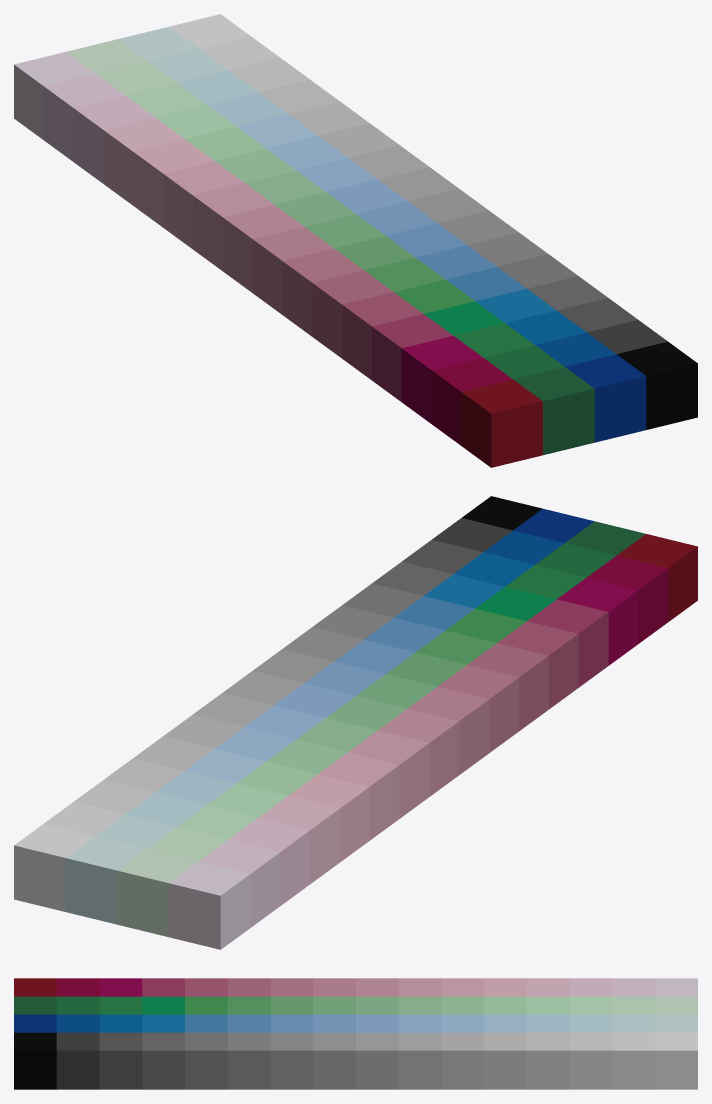
The model's file is Colors-Atari.gltf.
3 renders of one model, top to bottom at view 1: azimuth 30°, elevation 25°; view 2: azimuth 150°, elevation 25°; view 3: azimuth 270°, elevation 25°, orthographic. The views are drawn at different scales.
Size of the model in its own units: 4 by 1 by 16.
